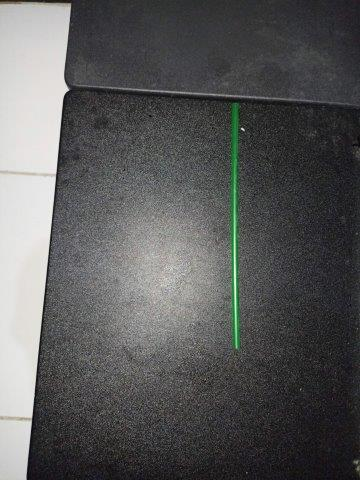sedotan: (231, 103, 241, 348)
